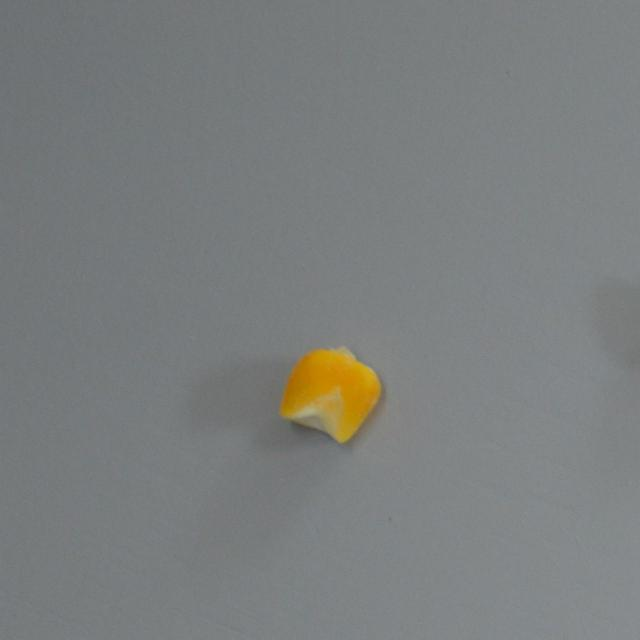pelicula: (278, 347, 382, 444)
